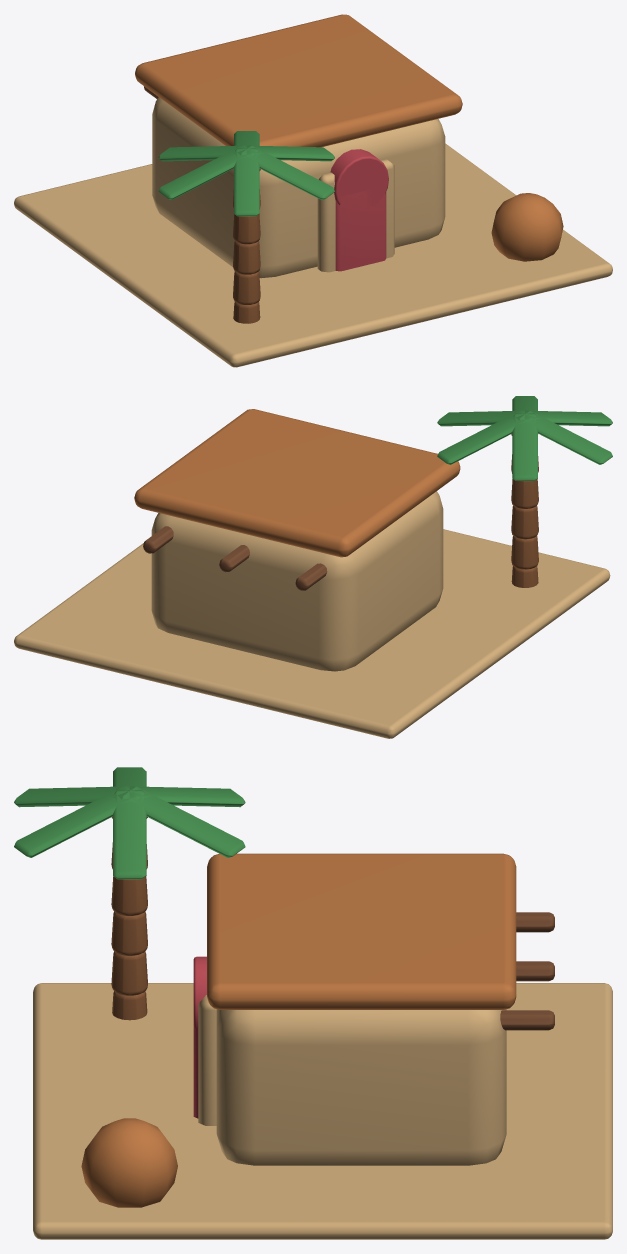
3 renders of one model, top to bottom at view 1: azimuth 30°, elevation 25°; view 2: azimuth 150°, elevation 25°; view 3: azimuth 270°, elevation 25°, orthographic. The views are drawn at different scales.
Parts seen in each view (by area): view 1: Cube; view 2: Cube; view 3: Cube.
Boxes of the visible parts, x1,y1,x2,y2 form: Cube: [14, 14, 612, 367]; Cube: [14, 396, 612, 738]; Cube: [14, 767, 612, 1239].
Size of the model in its own units: 0.651 by 0.2732 by 0.6198.
